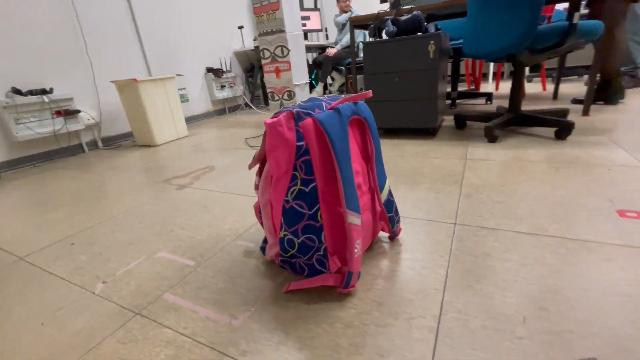Backpack: (242, 84, 406, 300)
